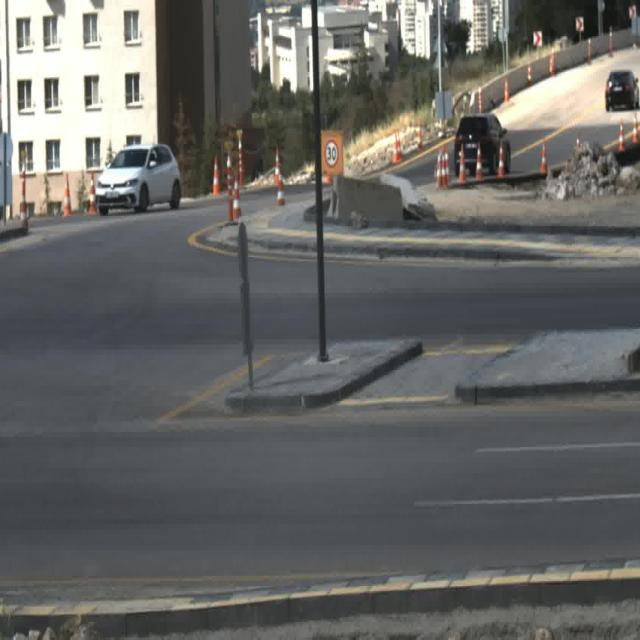Car: (96, 140, 178, 220), (454, 114, 510, 175), (602, 72, 640, 111)
